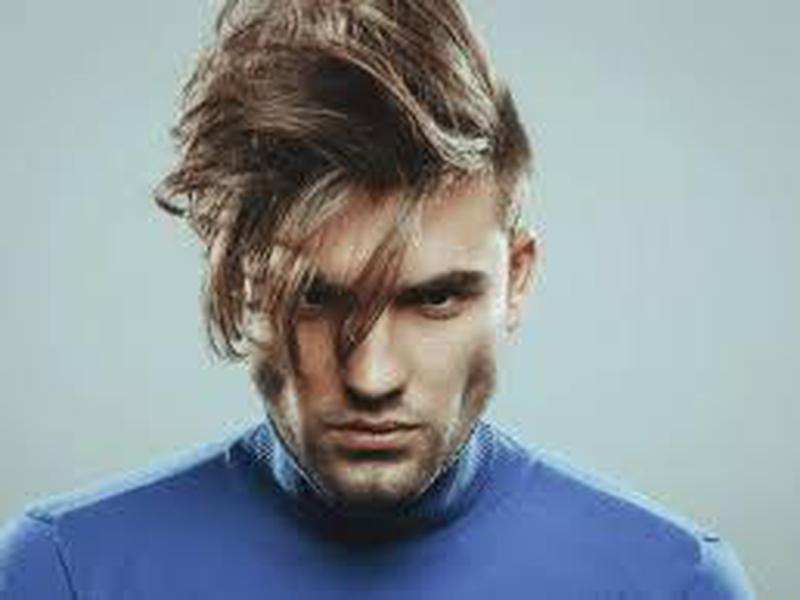without_mask: (265, 225, 497, 504)
